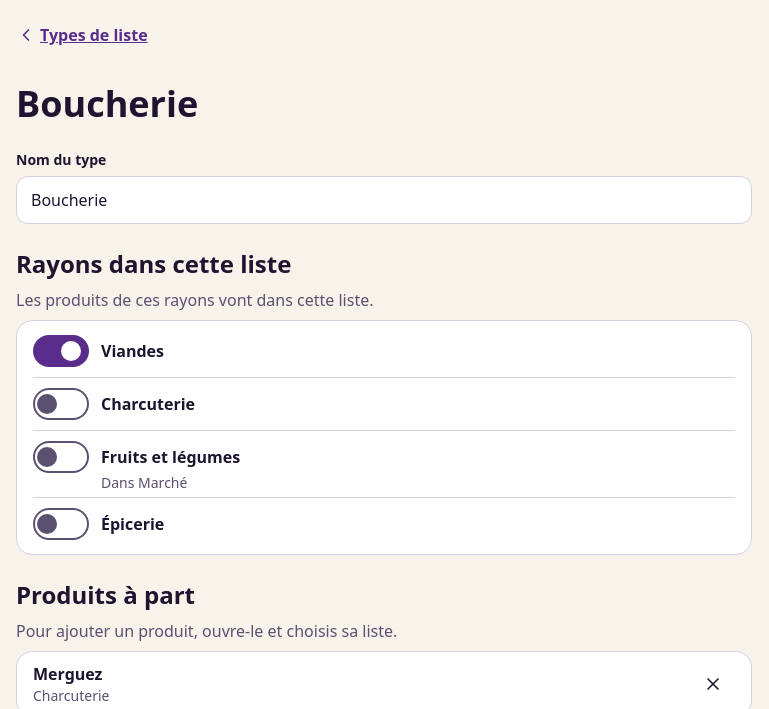
fiche d’un type de liste › « Enregistrer » est grisé tant que rien n’a changé
This screenshot has width=769, height=709.
Click the 2nd switch.
click(61, 404)  # box [33,382,89,426]
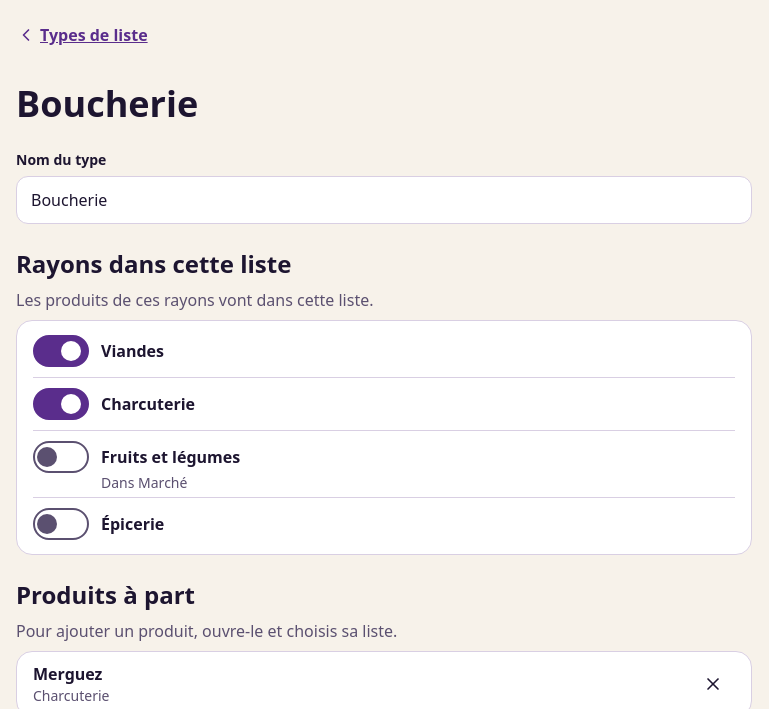
Click the 2nd switch.
click(61, 404)  # box [33,382,89,426]
(page scrolled)
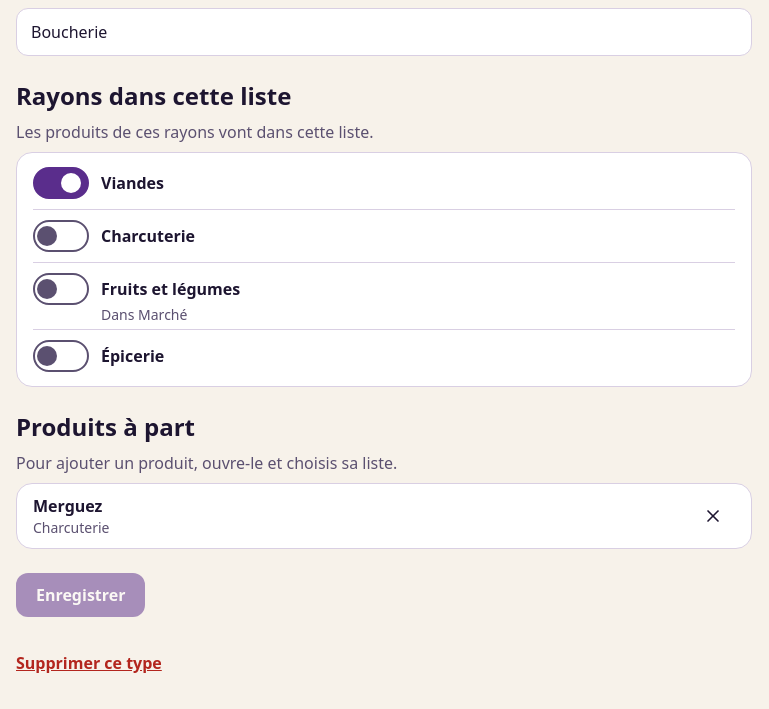
Expected: the button "Enregistrer" is disabled, [16,573,146,617]
